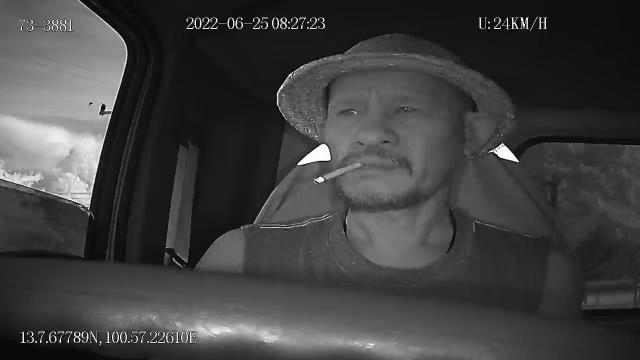SafeDriving: (388, 96, 427, 120), (330, 99, 367, 122)
Smoking: (314, 161, 364, 185)
